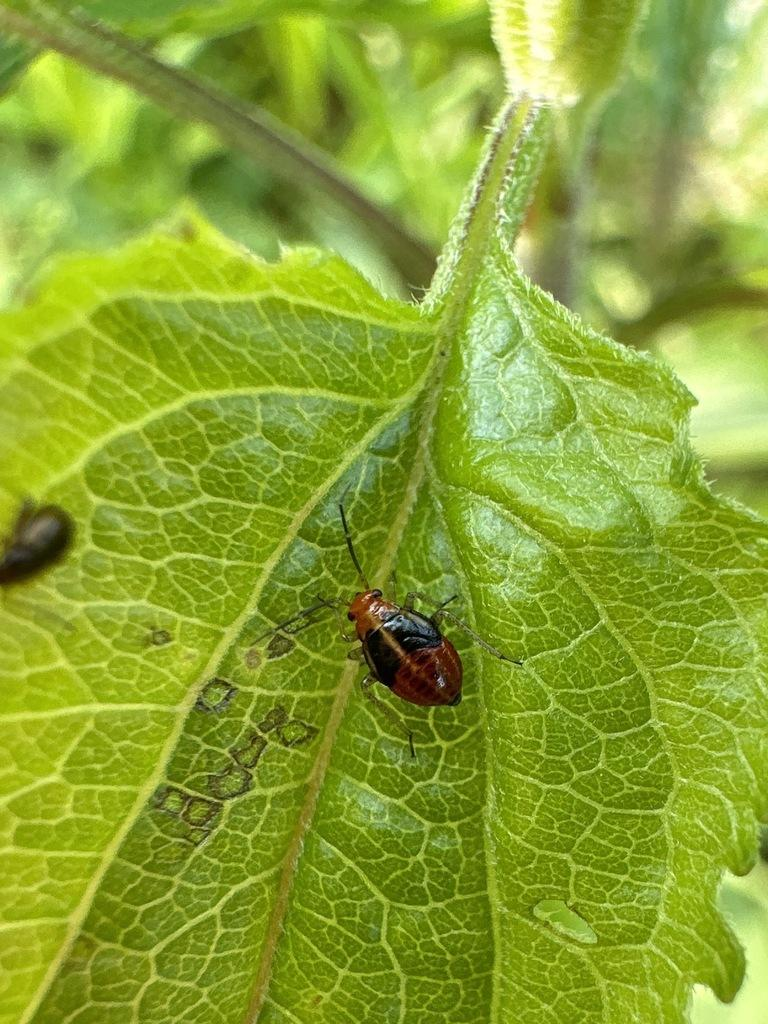plant_bugs: (233, 476, 546, 783)
